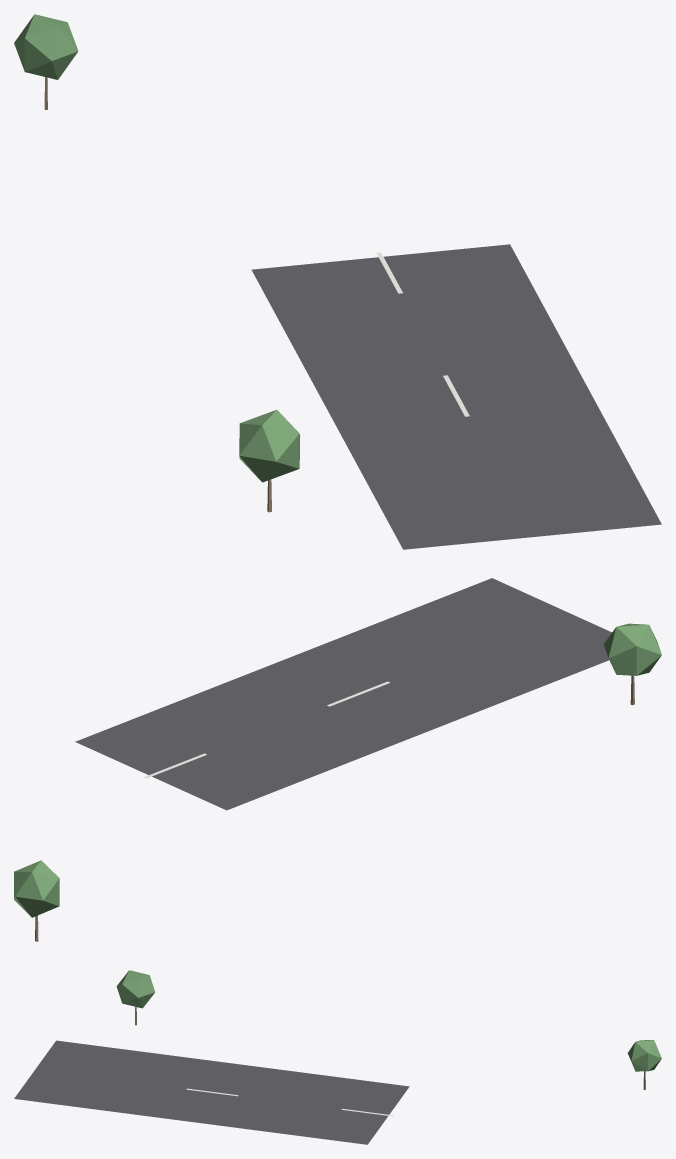
File: tile_-7_3.glb
The picture shows the model from 3 angles, top to bottom: view 1: azimuth 30°, elevation 25°; view 2: azimuth 150°, elevation 25°; view 3: azimuth 270°, elevation 25°; orthographic projection. The views are drawn at different scales.
Visible parts, largest first — view 1: roads_asphalt, nature_foliage_a; view 2: roads_asphalt, nature_foliage_a; view 3: roads_asphalt, nature_foliage_a.
Part boxes in pixels (box(x1,y1,x2,y2)): roads_asphalt: box(251, 244, 661, 549); nature_foliage_a: box(14, 14, 300, 482); roads_asphalt: box(75, 578, 611, 810); nature_foliage_a: box(14, 623, 661, 917); roads_asphalt: box(14, 1040, 409, 1144); nature_foliage_a: box(116, 970, 661, 1071).
Size of what is drawn, in the model's own units: 16.91 by 3.13 by 35.89.
